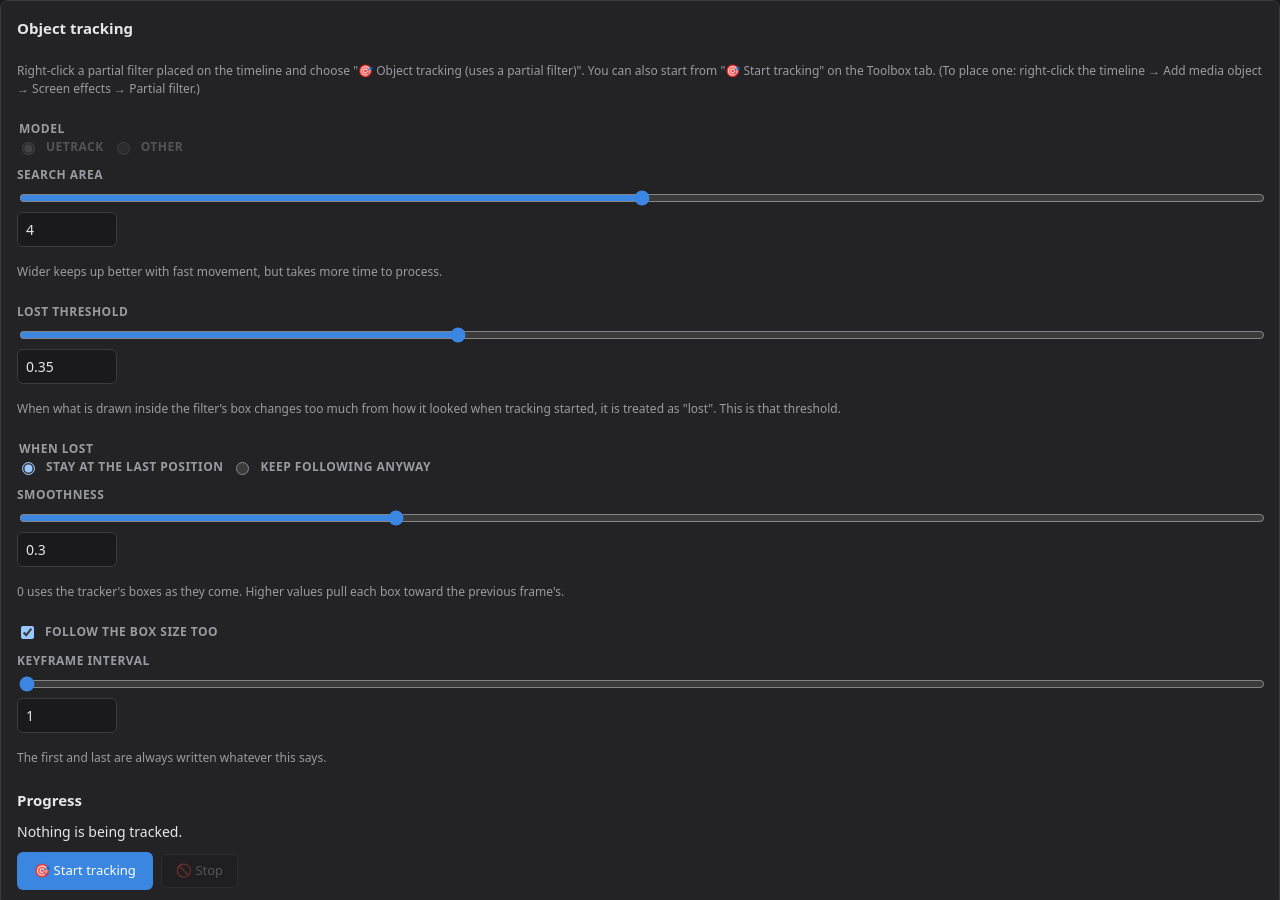
Test case: ObjectTrackingSection — the start button › asks for a partial filter when nothing is selected, and starts nothing
The width and height of the screenshot is (1280, 900).
Step 1. Click the button "🎯 Start tracking" → (85, 871), box [17,852,153,890]
(page scrolled)
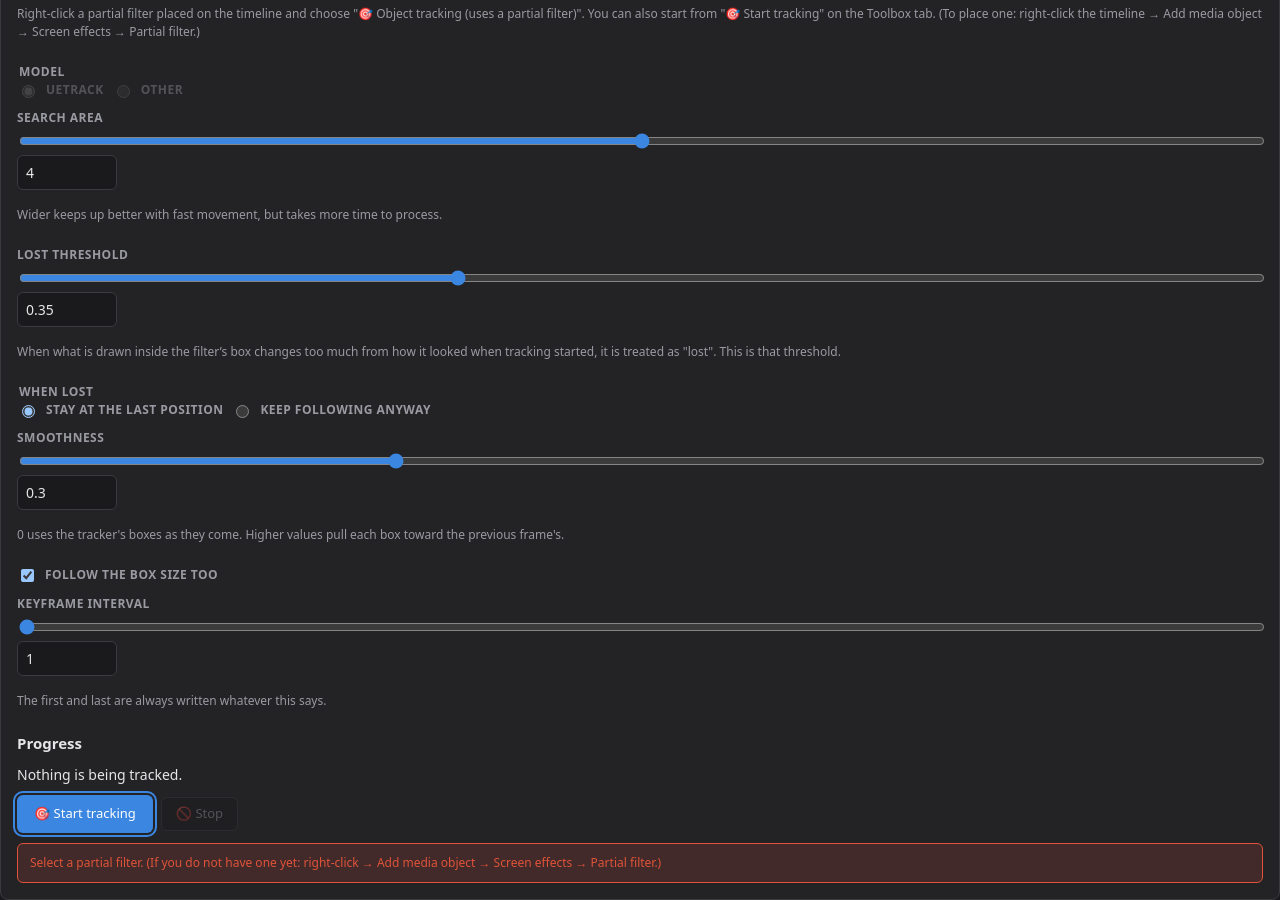
Now the text "Select a partial filter" is shown, box [30,854,661,870]
